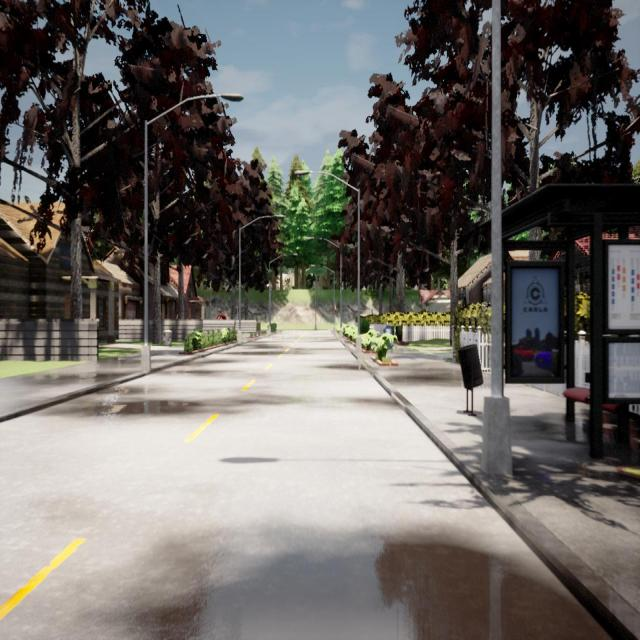traffic_light: (334, 307, 336, 315)
